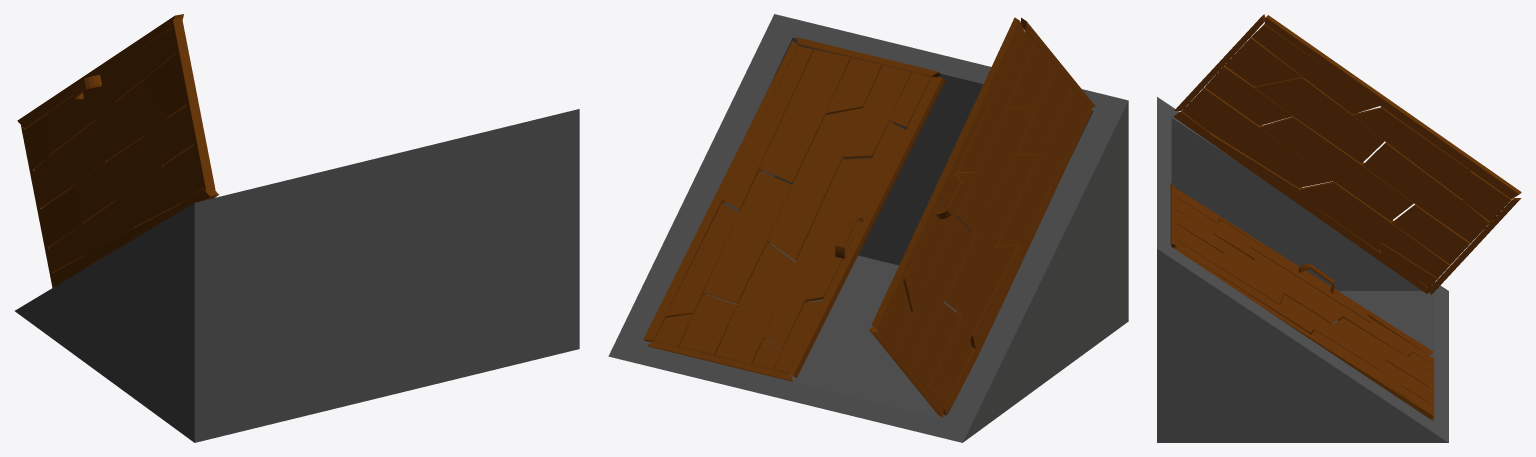
File: Porta-Porao.fbx
3 renders of one model, left to right at view 1: azimuth 30°, elevation 25°; view 2: azimuth 150°, elevation 25°; view 3: azimuth 270°, elevation 25°, orthographic. The views are drawn at different scales.
Parts seen in each view (by area): view 1: Cube, Cube.002; view 2: Cube, Cube.003, Cube.002; view 3: Cube, Cube.002, Cube.003.
Boxes of the visible parts, bbox=[...] form: Cube: bbox=[15, 109, 579, 442]; Cube.002: bbox=[17, 14, 218, 287]; Cube: bbox=[608, 14, 1128, 442]; Cube.003: bbox=[643, 37, 945, 381]; Cube.002: bbox=[868, 17, 1095, 417]; Cube: bbox=[1157, 97, 1448, 442]; Cube.002: bbox=[1173, 14, 1521, 294]; Cube.003: bbox=[1170, 183, 1434, 419].
Size of the model in its own units: 340 by 309 by 345.
